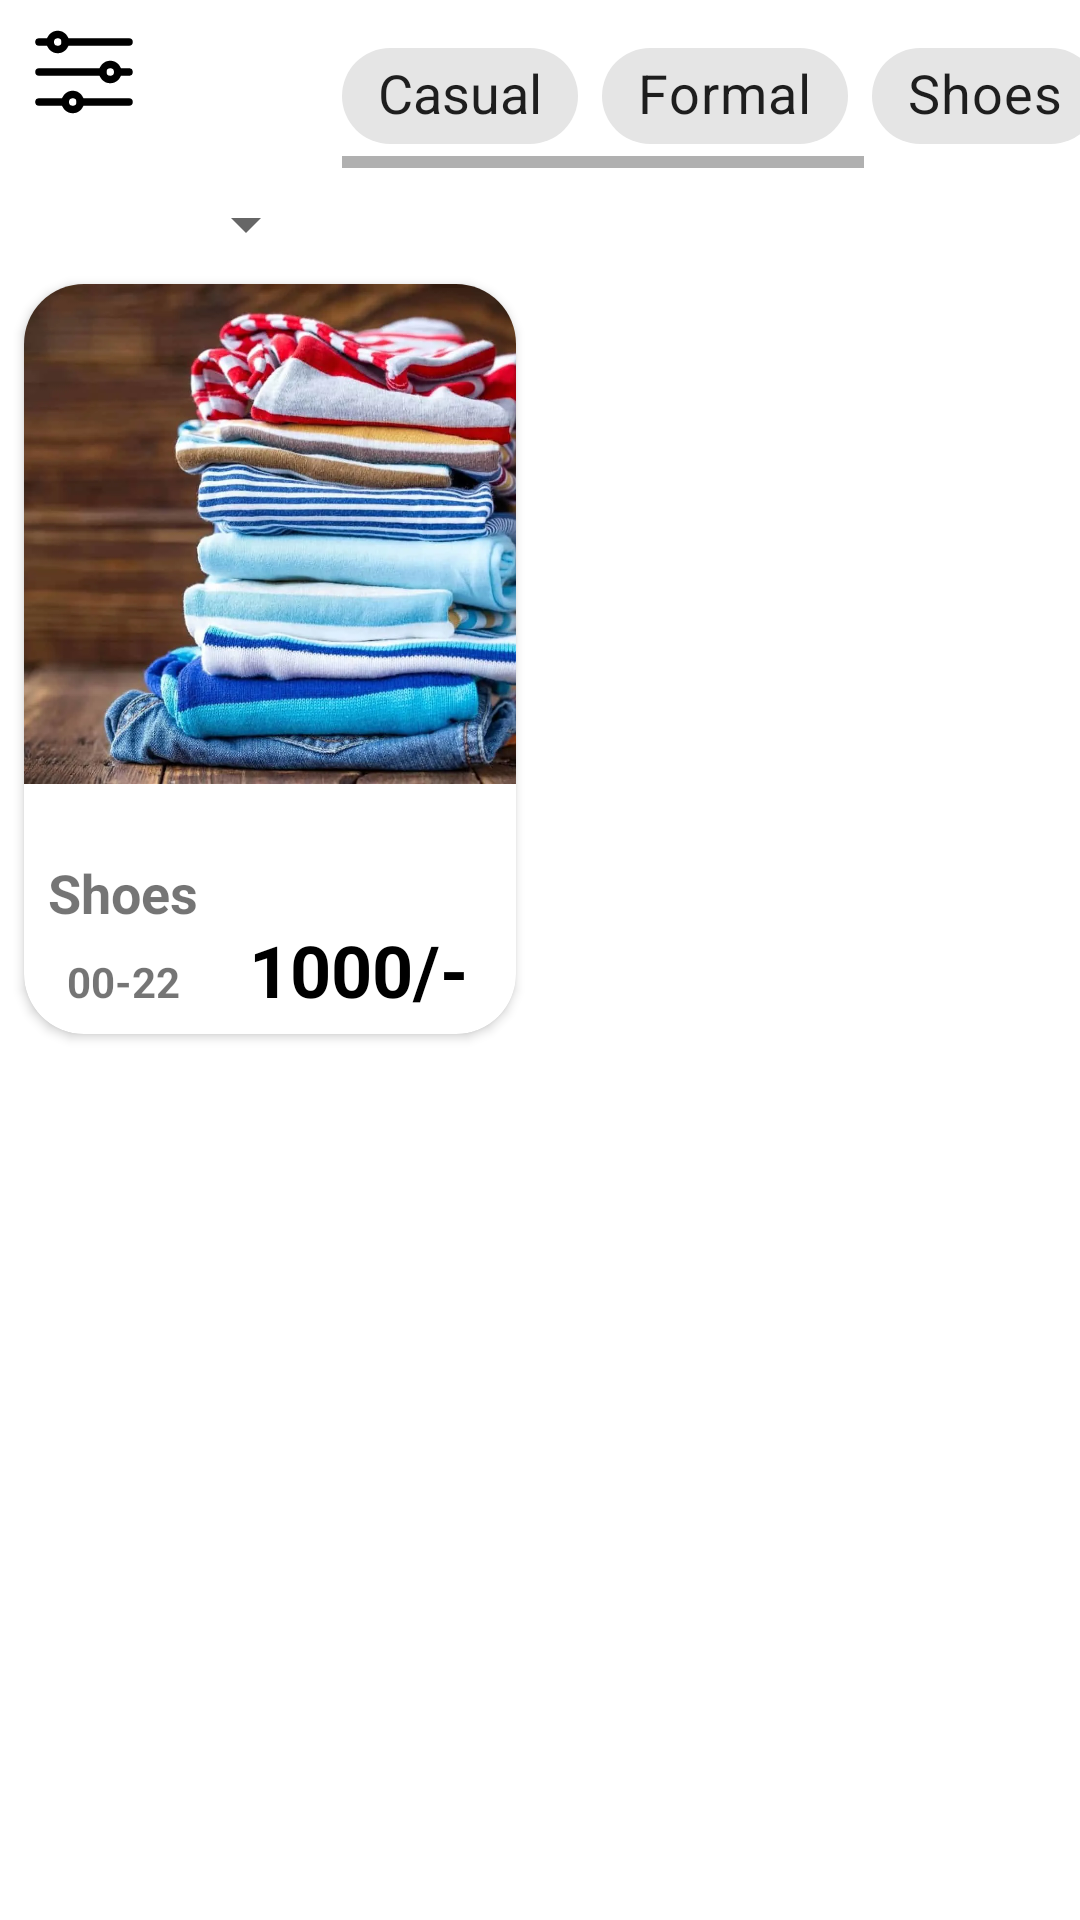

Screen size 1080px×1920px. Icon name, then its center in pixels as point (x, y):
filters: point (84, 72)
